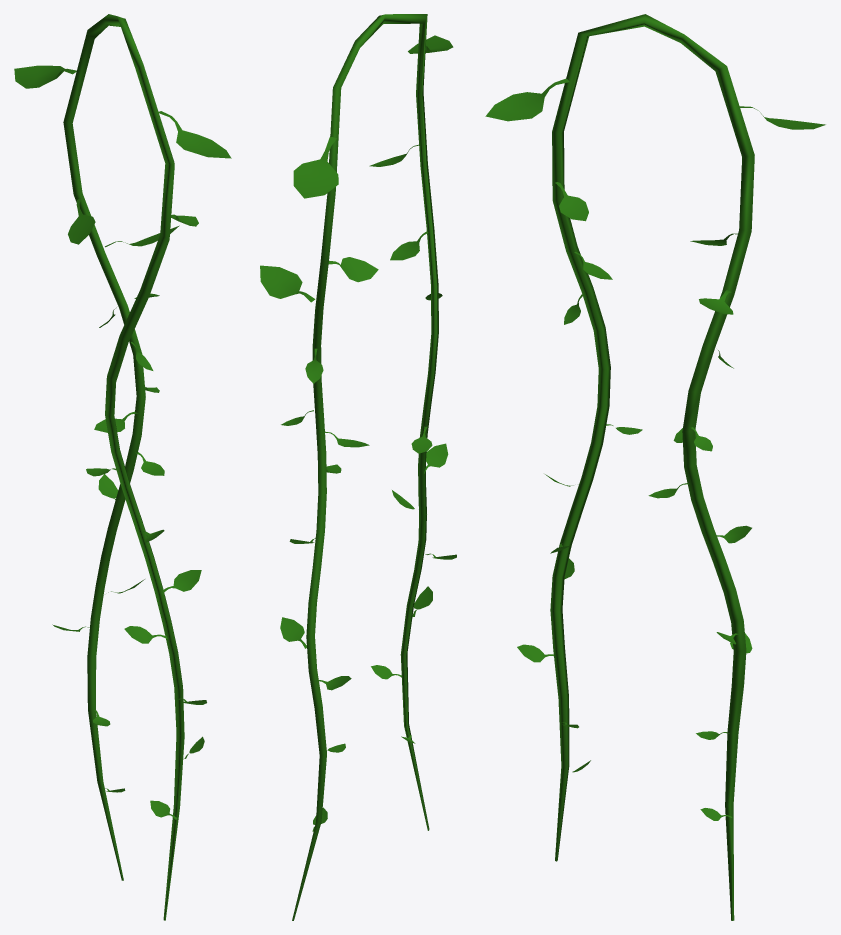
Rendered from Vines_02.fbx.
3 views of the same model, side by side, from view 1: azimuth 30°, elevation 25°; view 2: azimuth 150°, elevation 25°; view 3: azimuth 270°, elevation 25° (orthographic). The views are drawn at different scales.
Parts seen in each view (by area): view 1: Vine_02; view 2: Vine_02; view 3: Vine_02.
Boxes of the visible parts, x1,y1,x2,y2 form: Vine_02: [14, 14, 231, 920]; Vine_02: [260, 14, 456, 920]; Vine_02: [485, 14, 825, 920].
Bounding box in the file's own units: 60.4 × 397 × 139.
